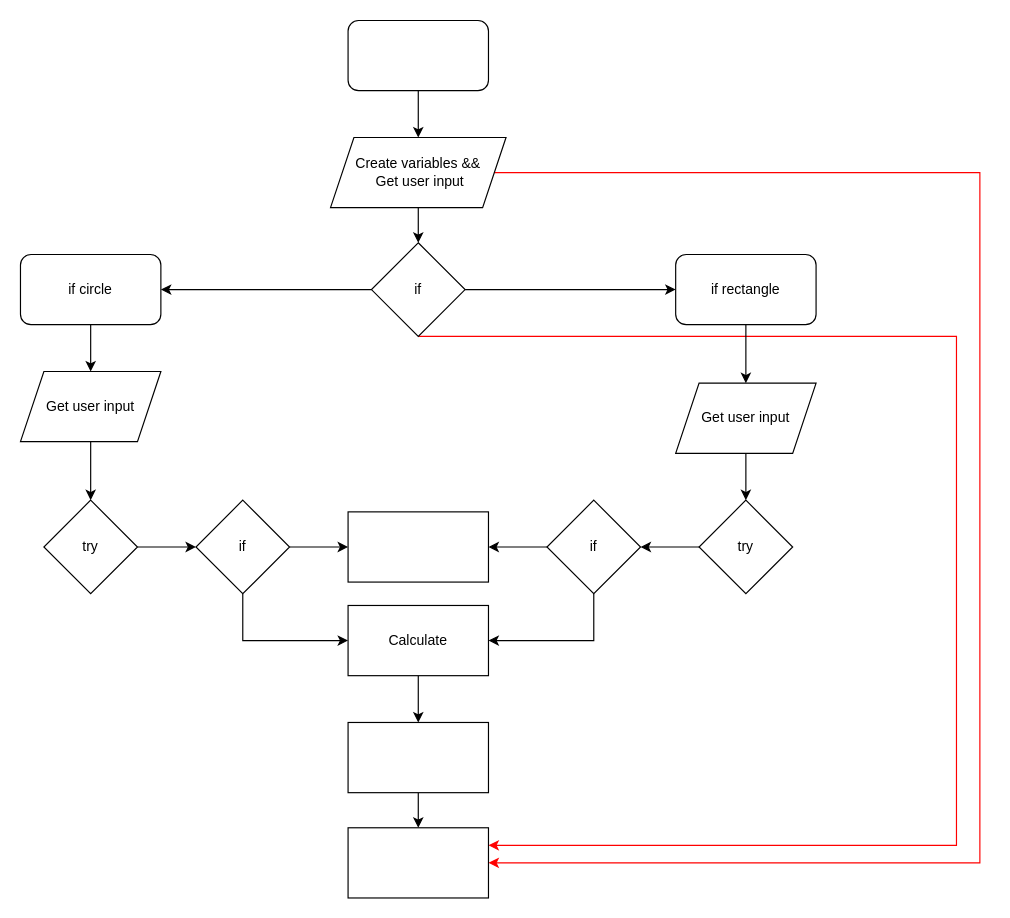
This 1010x918 diagram has some shape labels left out. The centre of each missing label's shape, as x and y in pixels:
"Print result" goes at point (417, 757).
"Raise" goes at point (417, 546).
"Start" goes at point (417, 55).
"Stop" goes at point (417, 862).
